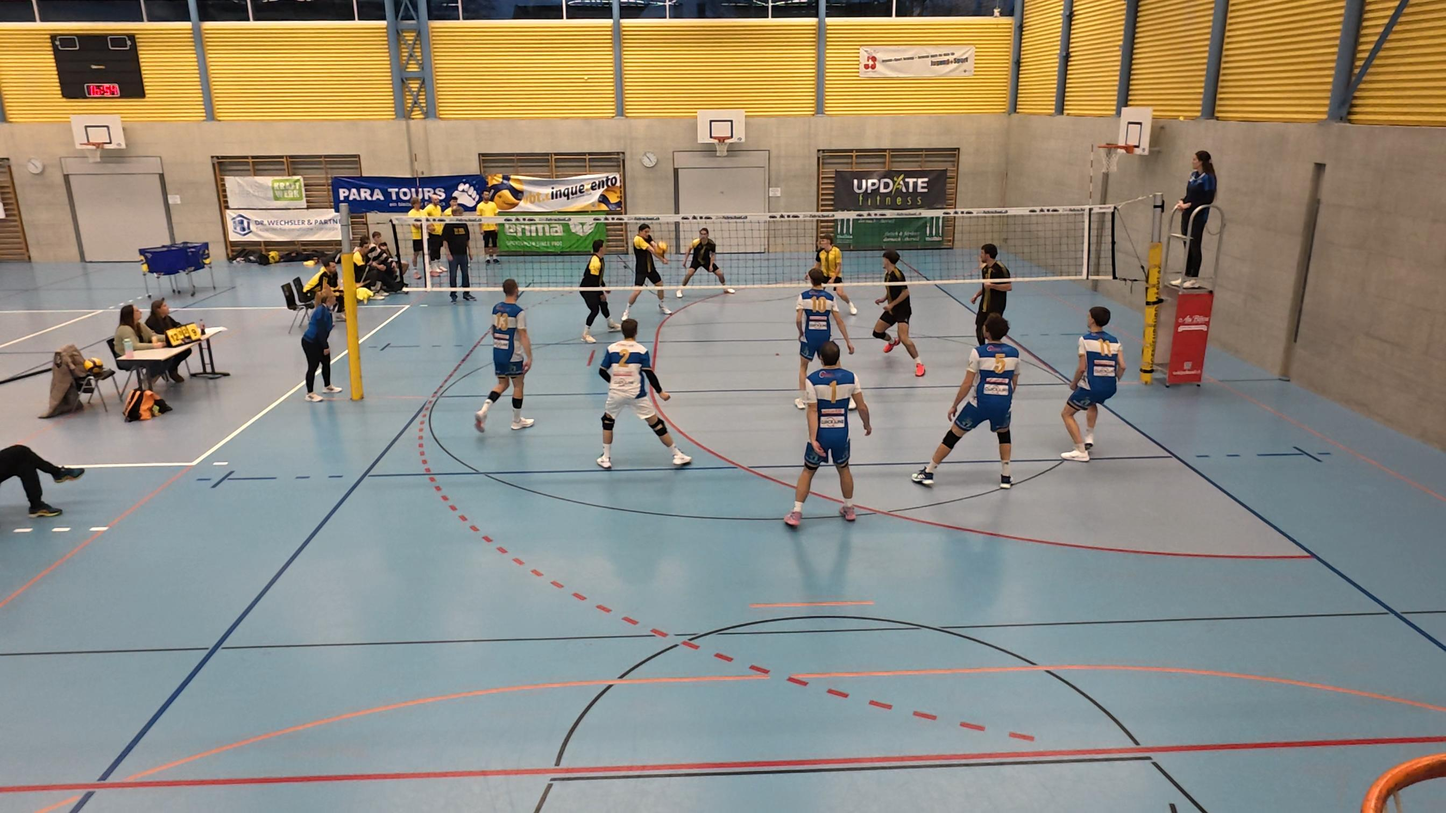ricezione: (625, 222, 673, 316)
